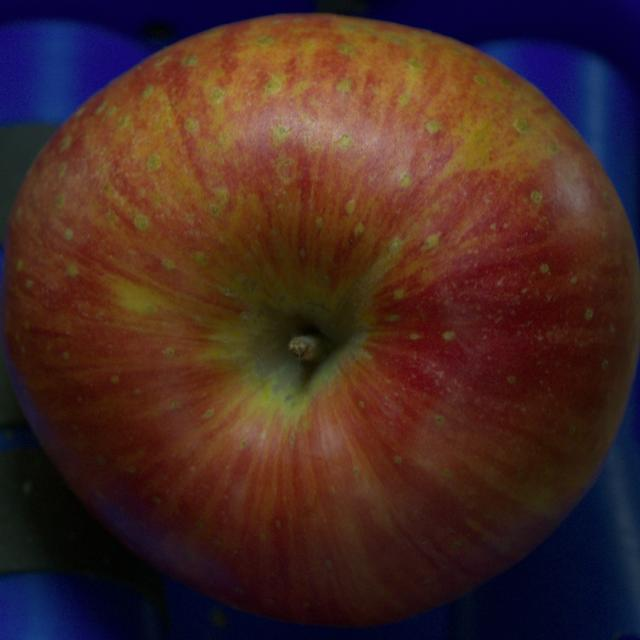apple: (0, 15, 639, 625)
